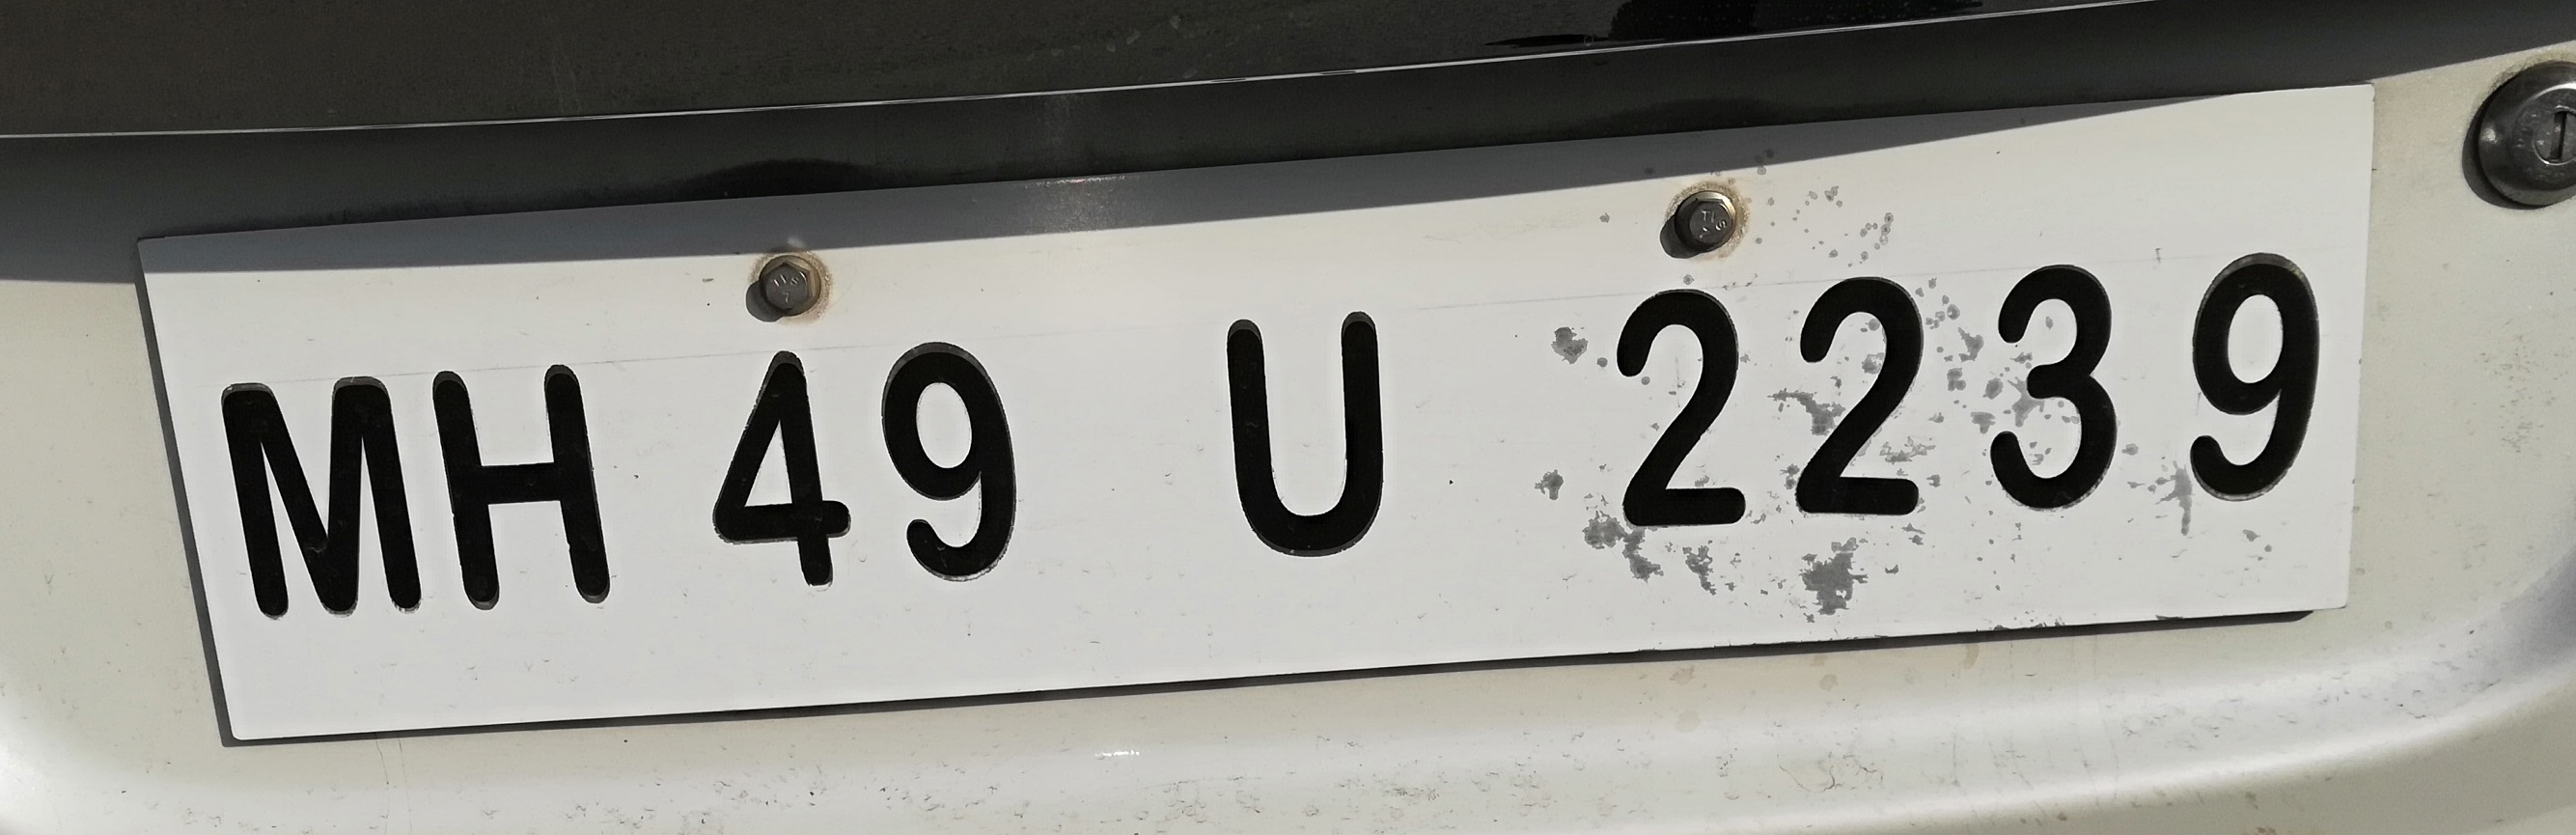numberplate: (133, 75, 2383, 759)
